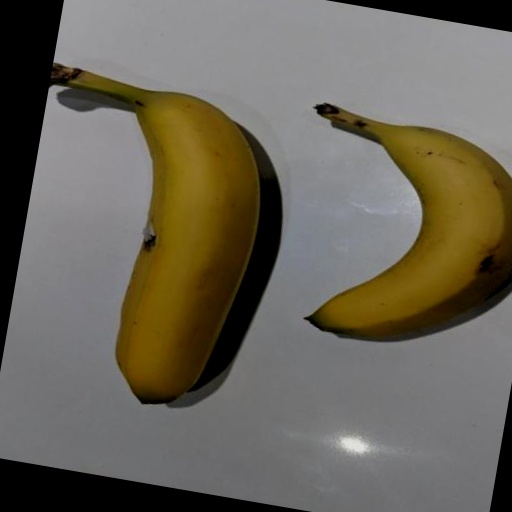fruit: (50, 64, 259, 403), (307, 104, 512, 337)
